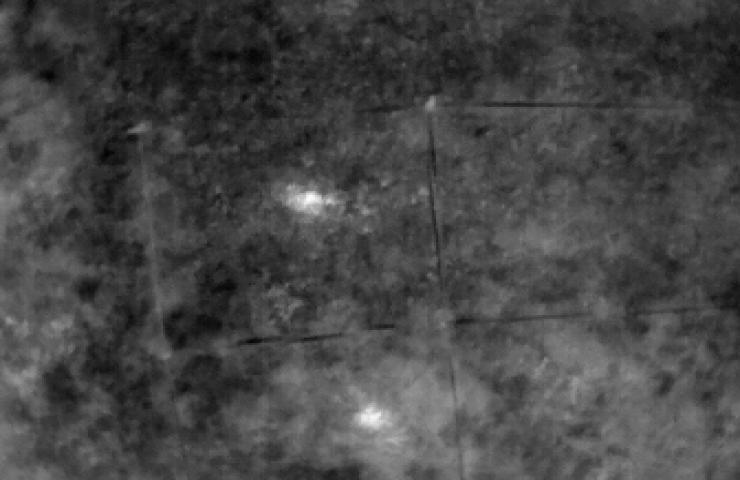landmines: (285, 185, 327, 216), (354, 406, 390, 433)
